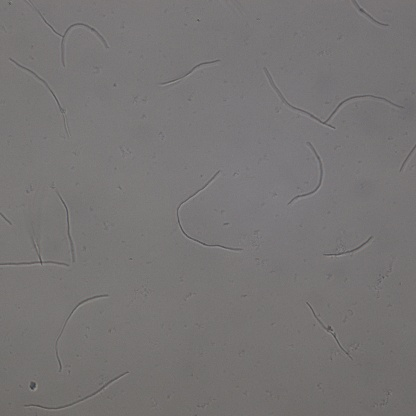Sensitive: (176, 170, 244, 253), (28, 1, 111, 67), (9, 59, 71, 137), (264, 68, 335, 130), (54, 294, 107, 373), (24, 372, 128, 412), (307, 300, 353, 358), (325, 93, 404, 123), (290, 142, 325, 204), (161, 56, 221, 84), (57, 192, 79, 262), (323, 235, 373, 259), (349, 1, 389, 28), (1, 256, 70, 269)
